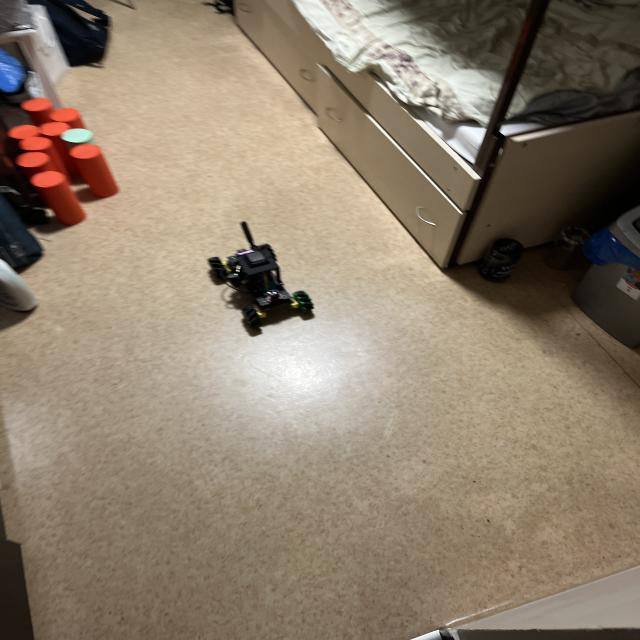robot: (208, 222, 314, 327)
